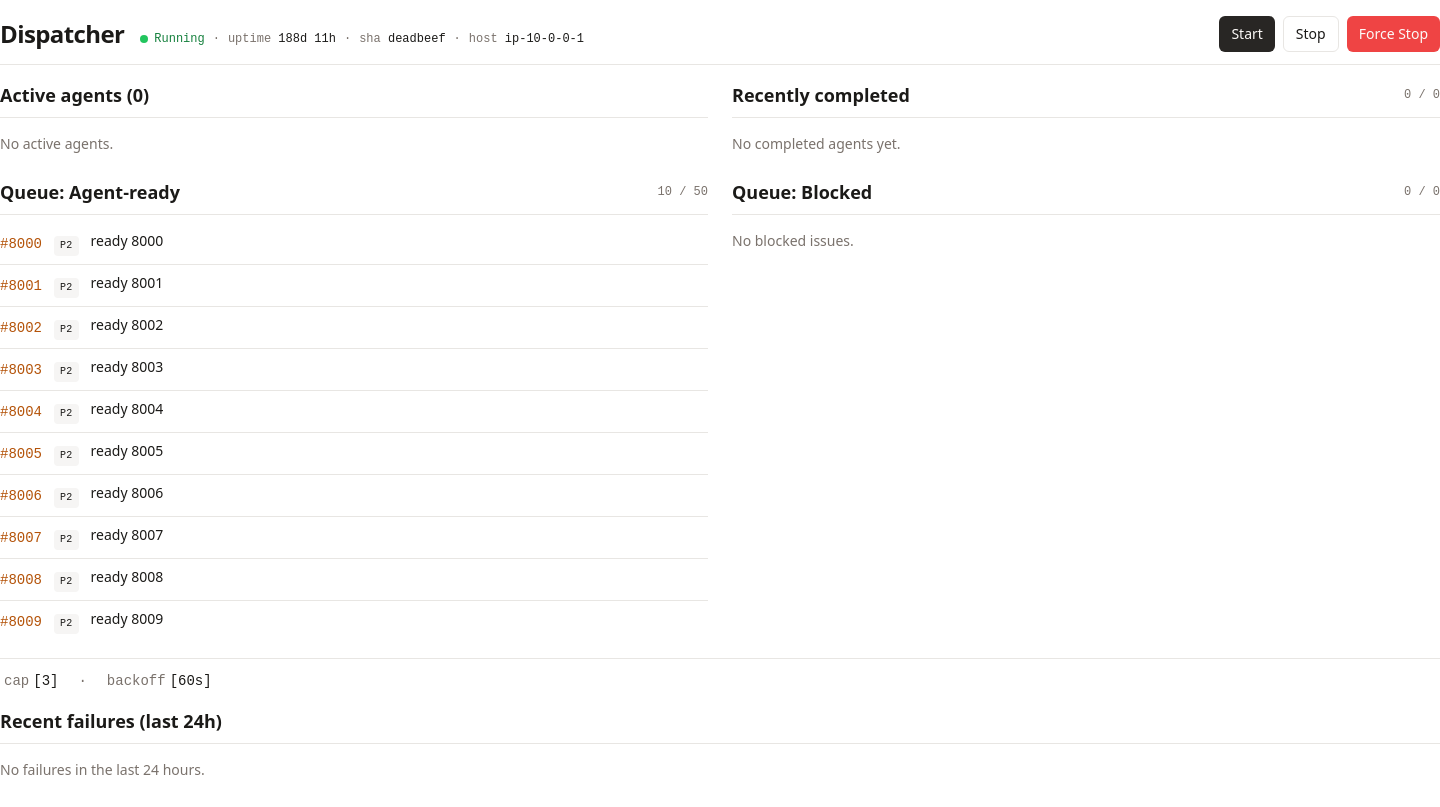
DispatcherDashboard — #3222 dialog title (total only) › READY dialog title reads `Queue: Agent-ready — {total}` (panel badge still shows {shown} / {total})
What coordinates should you click on to do the following:
click the button with test id "queue-ready-count"
I would click on:
 (683, 192)
Its box is [658,184,708,200].
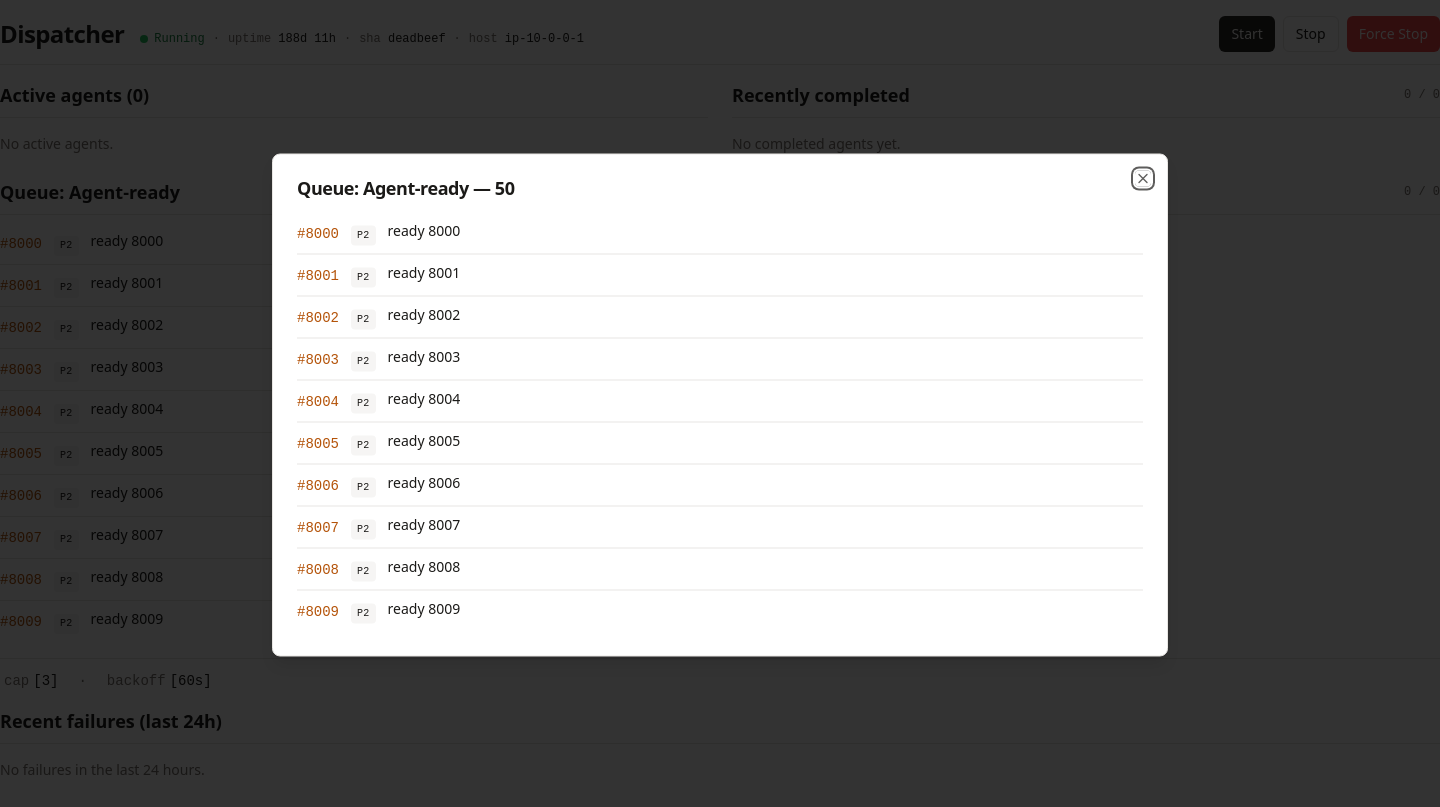
Expected: the heading with test id "queue-full-dialog-title" reads "Queue: Agent-ready — 50", [297,176,514,200]
